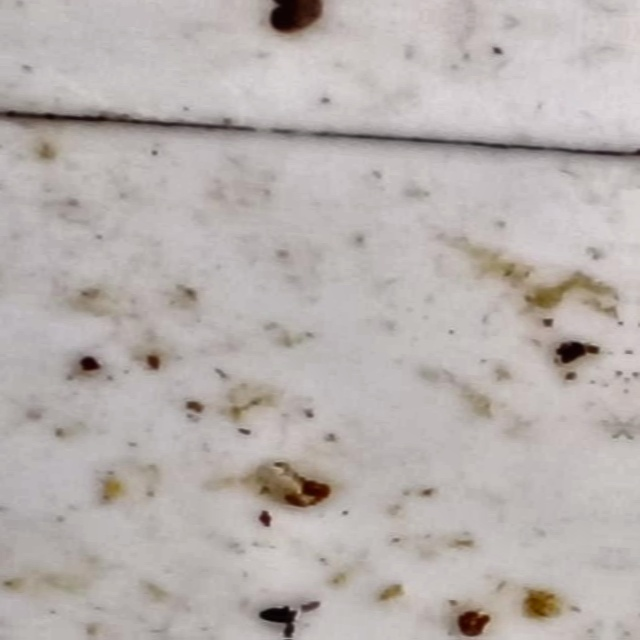varroa: (267, 6, 323, 40)
